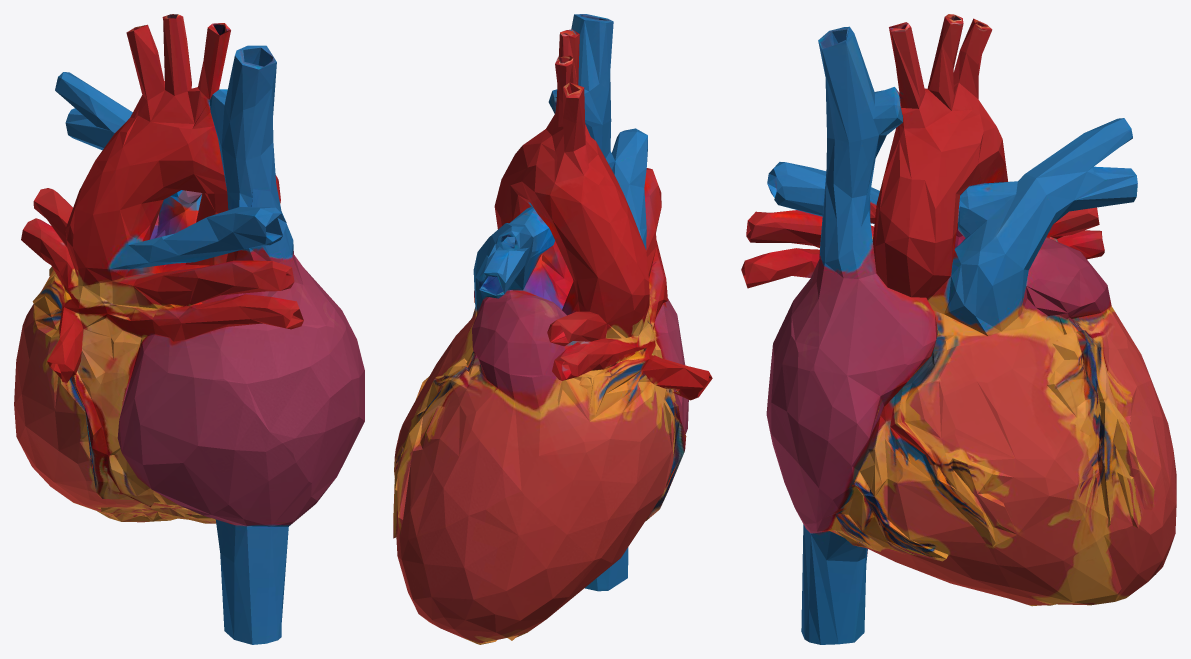
File: heart.glb
The picture shows the model from 3 angles, left to right: view 1: azimuth 30°, elevation 25°; view 2: azimuth 150°, elevation 25°; view 3: azimuth 270°, elevation 25°; orthographic projection. The views are drawn at different scales.
Visible parts, largest first — view 1: tripo_node_045d8eb0-72ec-4624-9759-a425f321d17a; view 2: tripo_node_045d8eb0-72ec-4624-9759-a425f321d17a; view 3: tripo_node_045d8eb0-72ec-4624-9759-a425f321d17a.
Boxes of the visible parts, box(x1,y1,x2,y2) form: tripo_node_045d8eb0-72ec-4624-9759-a425f321d17a: box(14, 14, 364, 644); tripo_node_045d8eb0-72ec-4624-9759-a425f321d17a: box(393, 14, 712, 644); tripo_node_045d8eb0-72ec-4624-9759-a425f321d17a: box(741, 14, 1176, 644).
Bounding box in the file's own units: 0.4987 × 0.9989 × 0.6477.
Materials: 1 (1 with a texture image).
